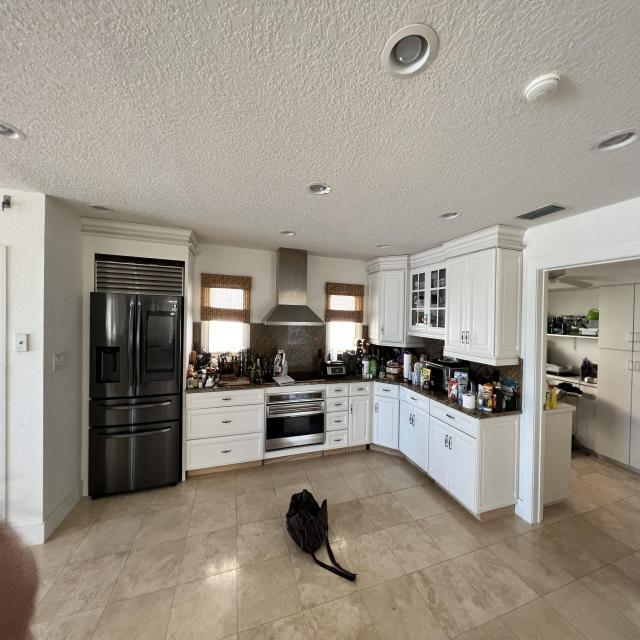Appliance_Fridge: (87, 292, 184, 500)
Appliance_Oven: (264, 389, 327, 453)
Cabinet_Glass: (409, 267, 446, 339)
Cabinet_Raised_Panel: (184, 382, 519, 518), (443, 248, 522, 367), (368, 270, 406, 347)
Countertop_Granite: (291, 378, 521, 419), (187, 384, 286, 394)
